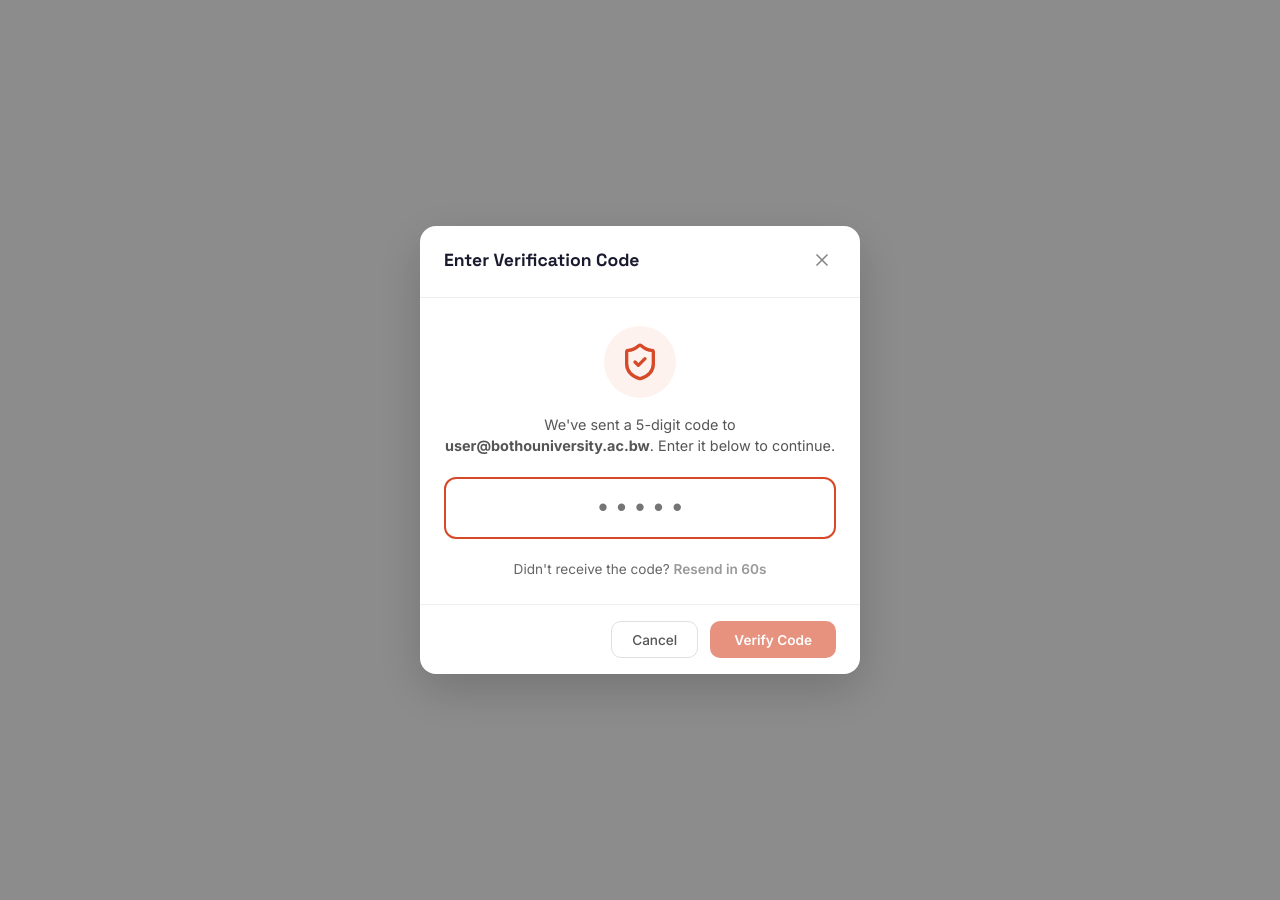
OtpModal › shows an error and clears the input when verification fails
Type "99999" into the field named "5-digit verification code" at (640, 508), box [444,477,836,539]
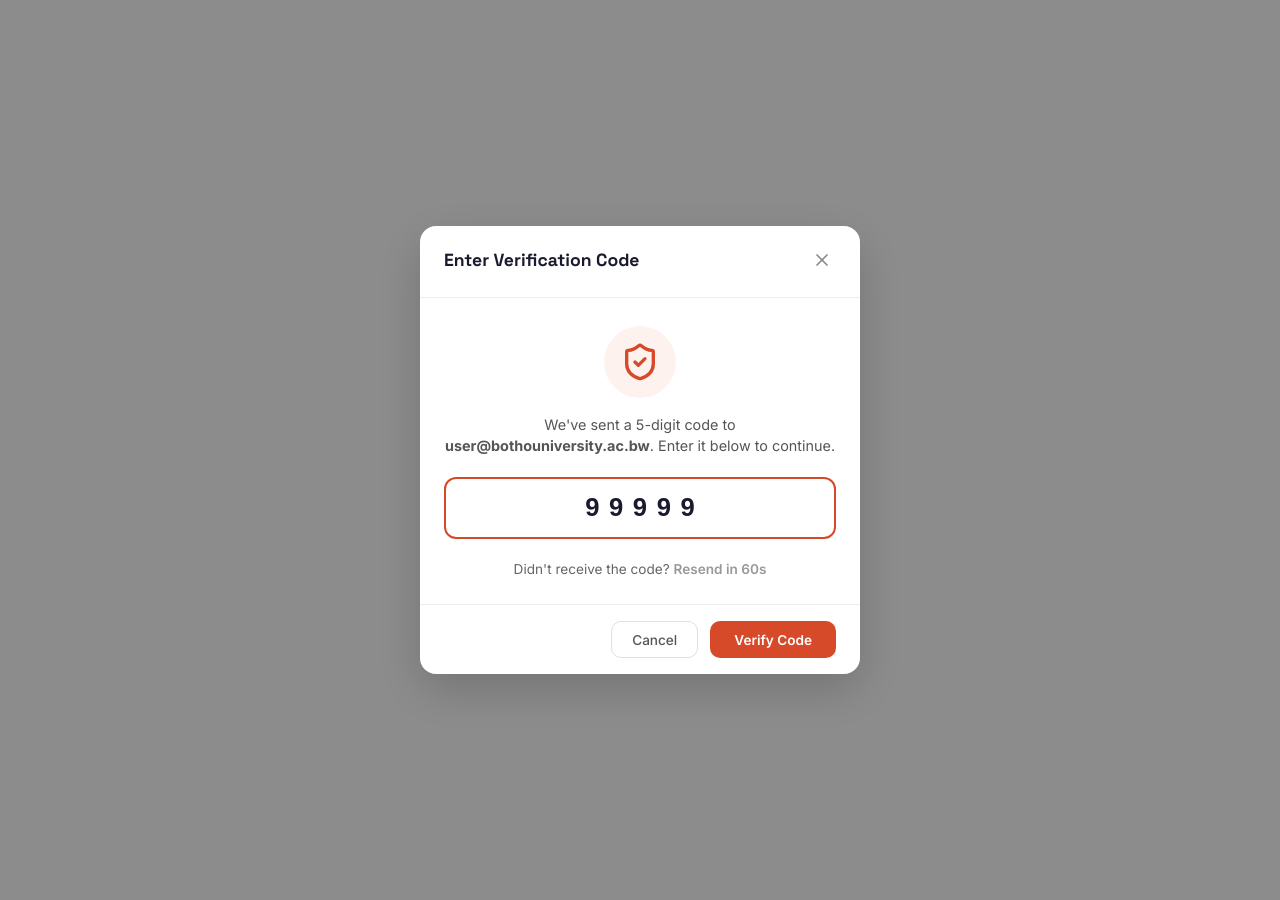
Click the button "Verify Code" at (773, 640), box [710,621,836,658]
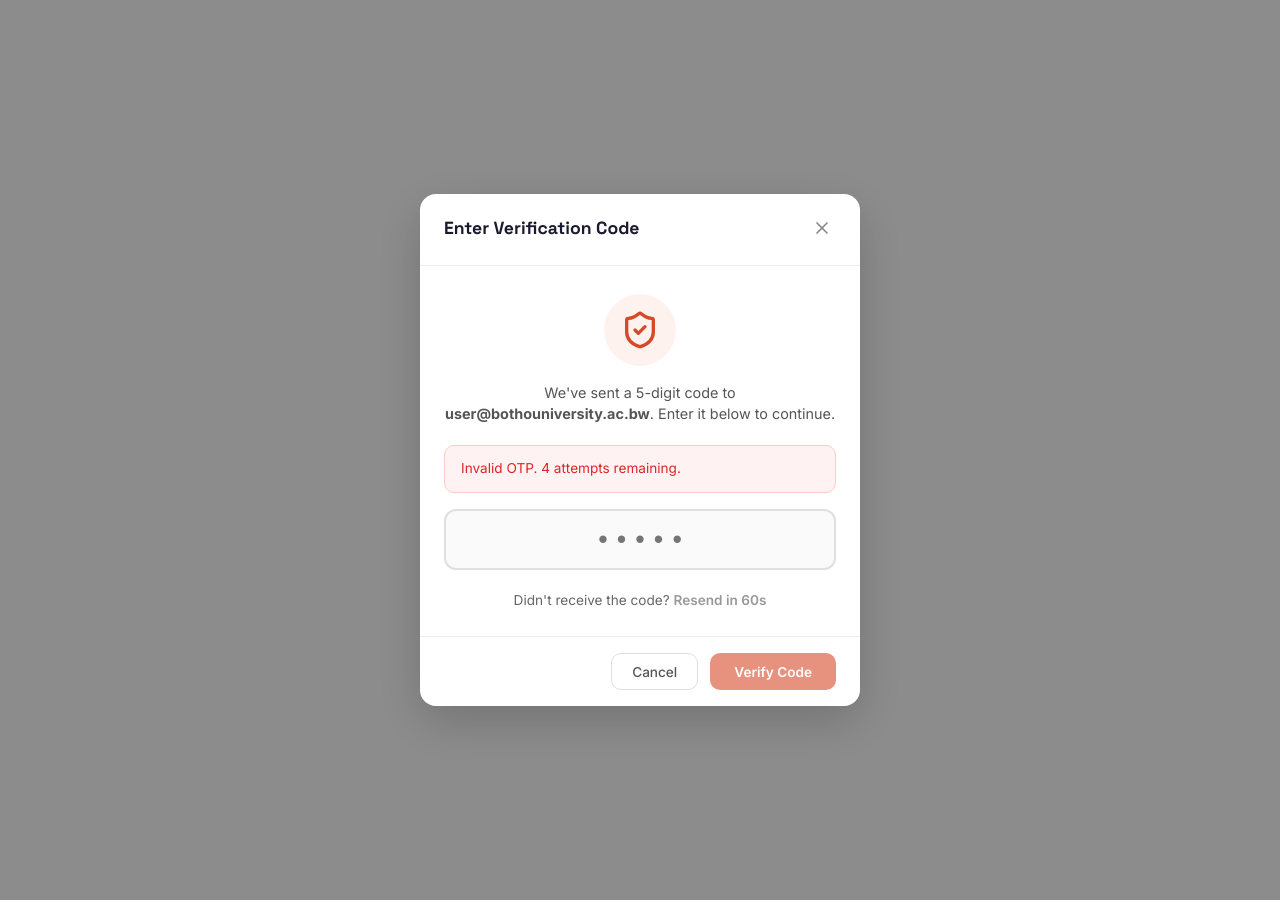
Result: the text "Invalid OTP. 4 attempts remaining." is shown at [444,445,836,493]
Result: the field named "5-digit verification code" is empty at [444,509,836,570]
